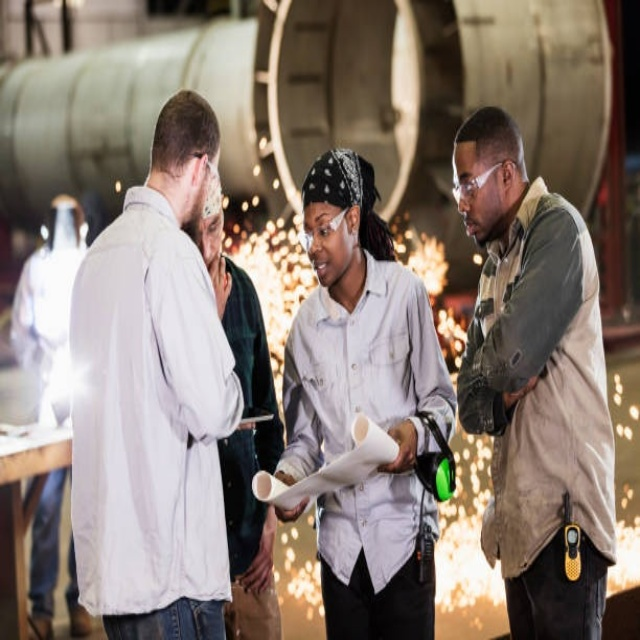Gafas: (452, 157, 502, 202), (301, 207, 350, 246), (193, 149, 219, 199), (195, 209, 226, 246)
Sin_guantes: (236, 529, 277, 596), (271, 471, 316, 518), (379, 420, 410, 475), (209, 254, 234, 315)
Sin_mascara: (460, 210, 485, 246), (310, 254, 335, 278)
